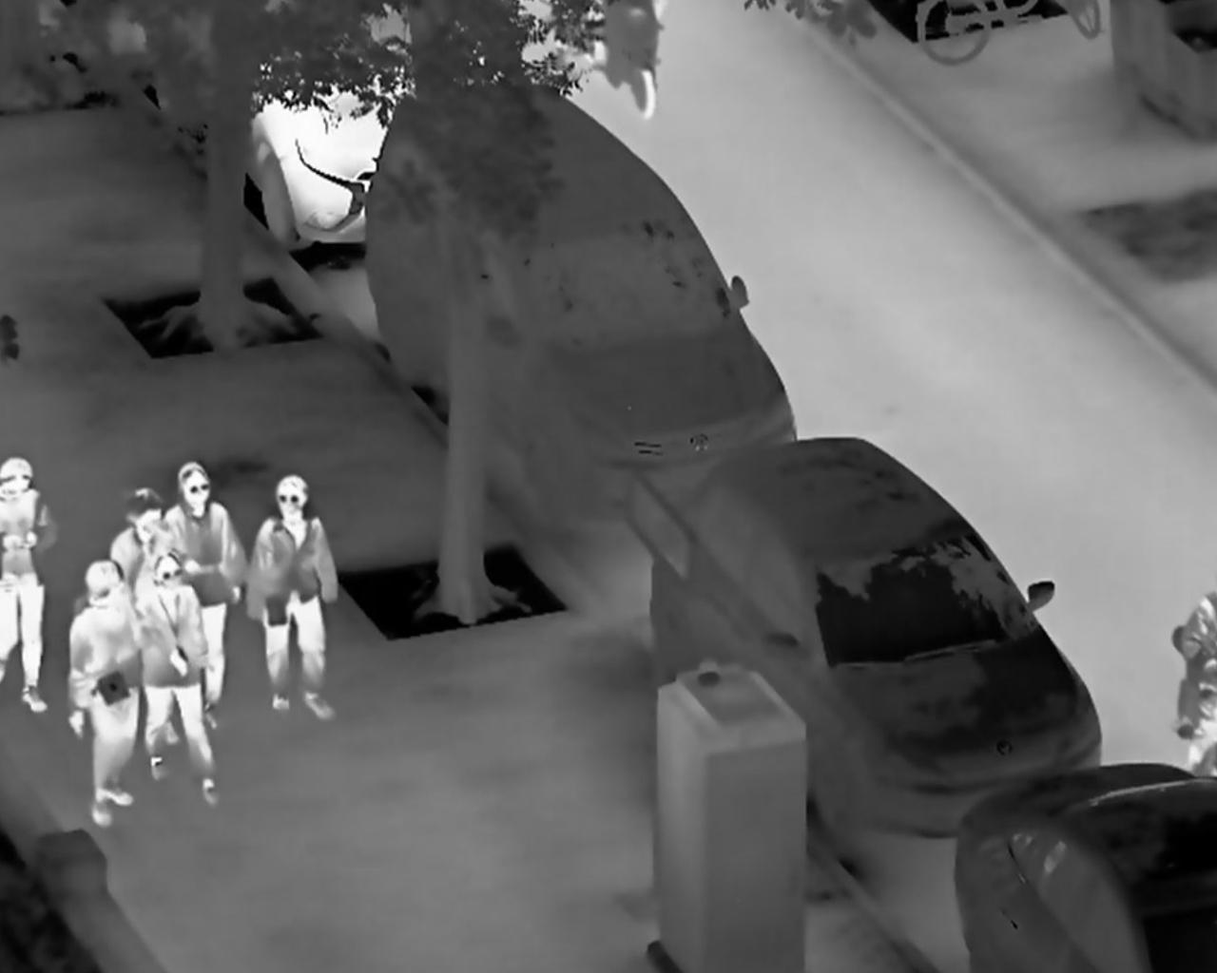person: (159, 460, 249, 729), (243, 473, 338, 722), (131, 557, 223, 811), (63, 561, 145, 829), (2, 454, 57, 718), (101, 487, 172, 609)
